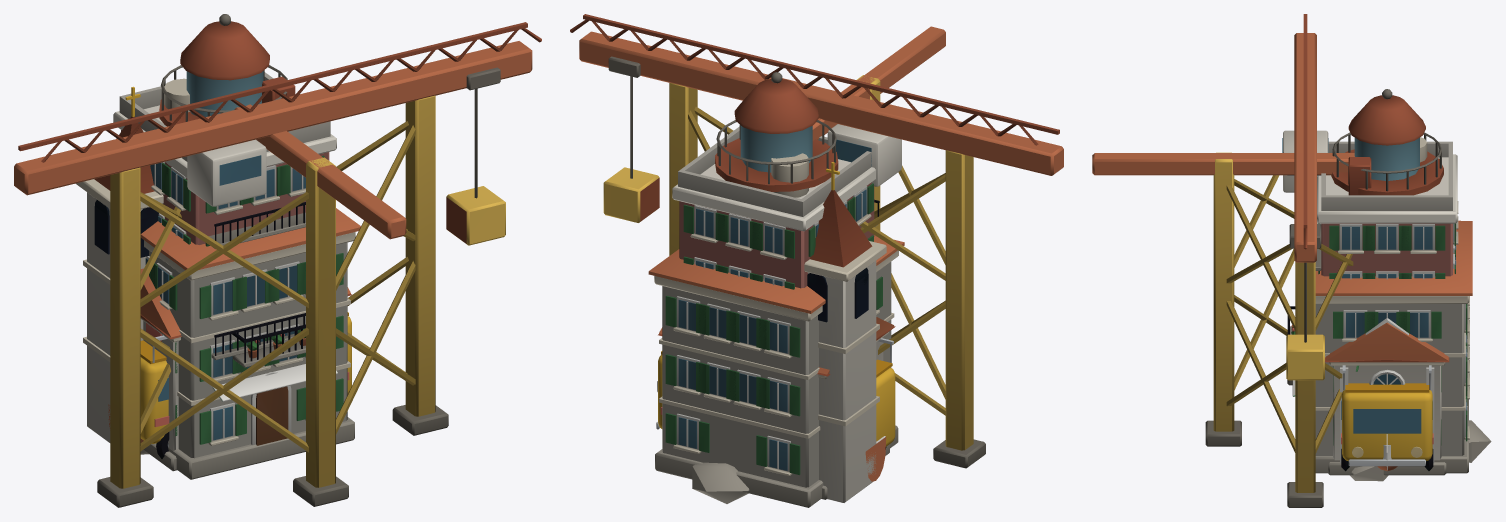
File: kit.glb
3 renders of one model, left to right at view 1: azimuth 30°, elevation 25°; view 2: azimuth 150°, elevation 25°; view 3: azimuth 270°, elevation 25°, orthographic. The views are drawn at different scales.
Parts seen in each view (by area): view 1: gru, palazzo, palazzo-alto, chiesa, faro, oro-bus; view 2: gru, palazzo, palazzo-alto, chiesa, faro, oro-bus, veliero; view 3: gru, palazzo, palazzo-alto, faro, oro-bus, chiesa.
Part boxes in pixels (left/top/right/bottom): gru: left=14, top=22, right=541, bottom=507; palazzo: left=140, top=208, right=360, bottom=479; palazzo-alto: left=113, top=72, right=337, bottom=401; chiesa: left=76, top=86, right=351, bottom=471; faro: left=140, top=14, right=287, bottom=454; oro-bus: left=140, top=291, right=351, bottom=458; gru: left=570, top=14, right=1063, bottom=468; palazzo: left=648, top=235, right=904, bottom=507; palazzo-alto: left=672, top=126, right=879, bottom=289; chiesa: left=658, top=162, right=895, bottom=502; faro: left=692, top=72, right=838, bottom=503; oro-bus: left=656, top=331, right=895, bottom=449; veliero: left=865, top=436, right=886, bottom=481; gru: left=1092, top=14, right=1354, bottom=507; palazzo: left=1287, top=220, right=1472, bottom=473; palazzo-alto: left=1292, top=137, right=1458, bottom=396; faro: left=1331, top=89, right=1491, bottom=481; oro-bus: left=1341, top=365, right=1433, bottom=471; chiesa: left=1325, top=318, right=1449, bottom=475.
Size of the model in its own units: 11.33 by 8.85 by 8.8.
